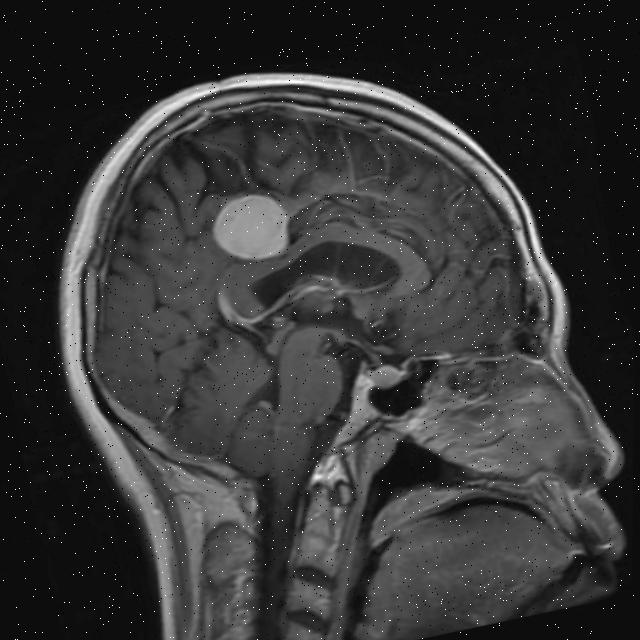Meningioma: (202, 182, 300, 273)
Pituitary: (364, 360, 408, 393)
